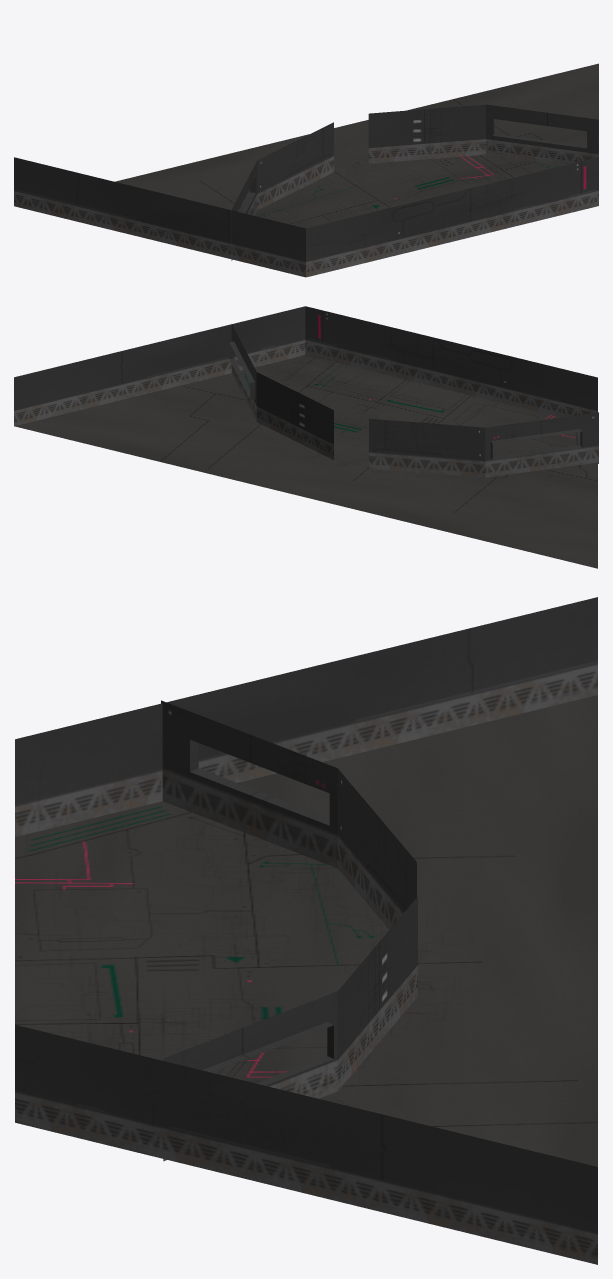
Rendered from labWall.fbx.
3 views of the same model, one above another, from view 1: azimuth 30°, elevation 25°; view 2: azimuth 150°, elevation 25°; view 3: azimuth 270°, elevation 25° (orthographic). The views are drawn at different scales.
Parts seen in each view (by area): view 1: labWall; view 2: labWall; view 3: labWall.
Boxes of the visible parts, x1,y1,x2,y2 form: labWall: (14, 63, 598, 277); labWall: (14, 306, 598, 568); labWall: (15, 597, 597, 1264).
Bounding box in the file's own units: 9030 × 761 × 3903.
Materials: 1 (1 with a texture image).
